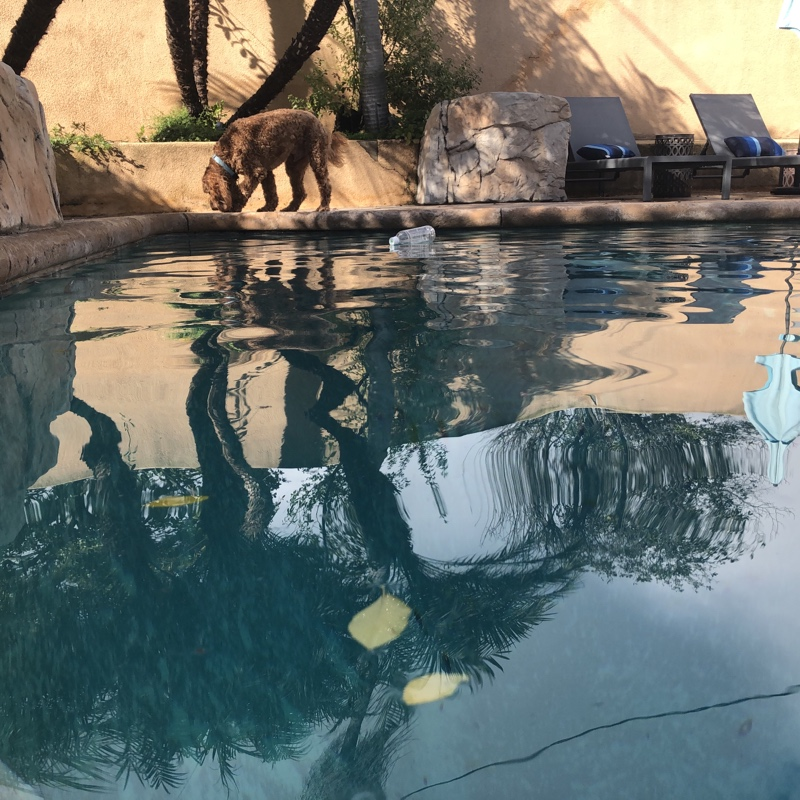Plastic Bottle: (383, 226, 442, 250)
